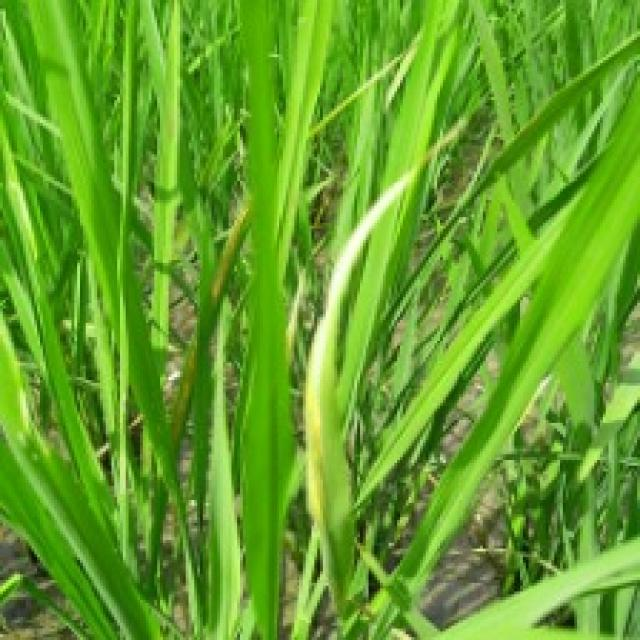Unhealthy: (303, 116, 466, 526), (210, 193, 250, 305), (171, 335, 197, 449), (386, 46, 417, 108)
